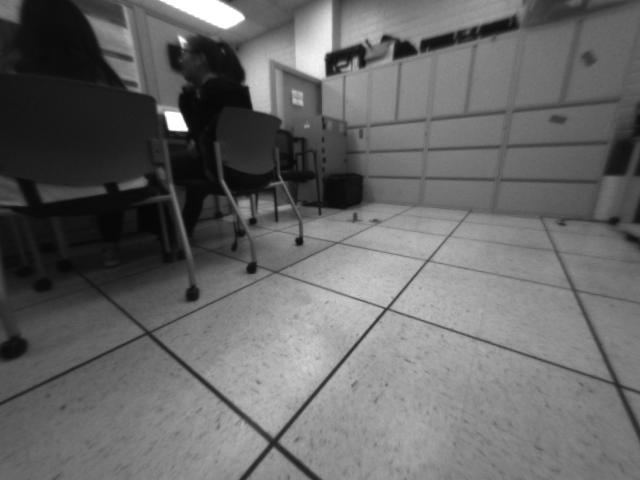X: (345, 211, 364, 225)
